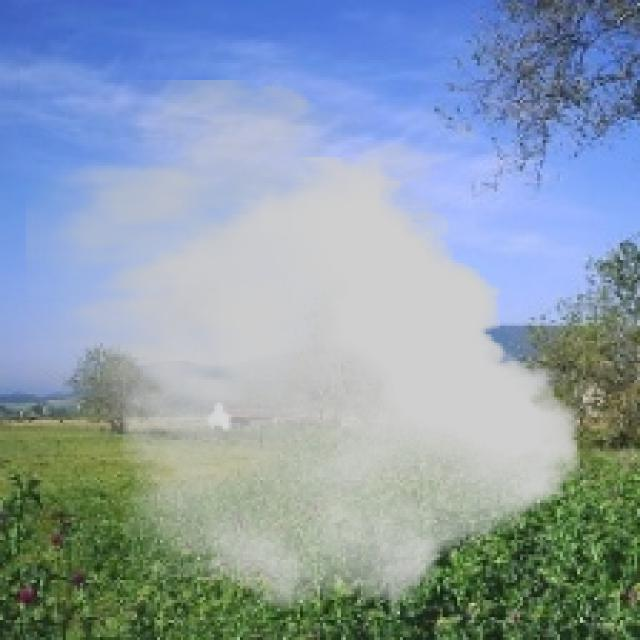Smoke: (26, 79, 580, 612)
